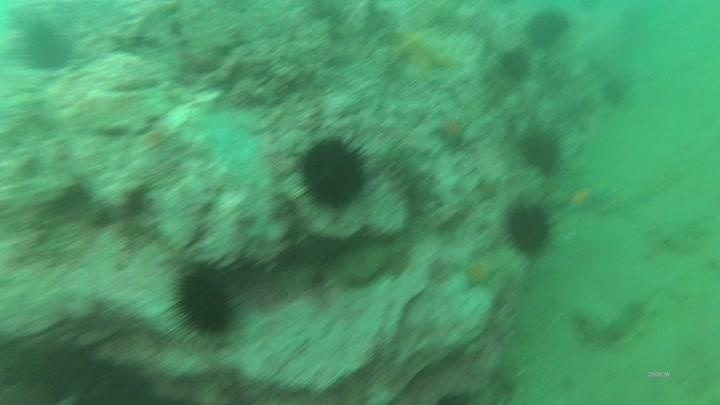echinus: (293, 133, 373, 213), (168, 261, 242, 340), (500, 198, 558, 260), (18, 19, 76, 75), (516, 126, 565, 176), (522, 7, 573, 50), (495, 46, 533, 84), (599, 75, 632, 109)
starfish: (387, 23, 459, 83), (560, 180, 611, 218), (458, 251, 502, 293), (429, 109, 473, 150)
